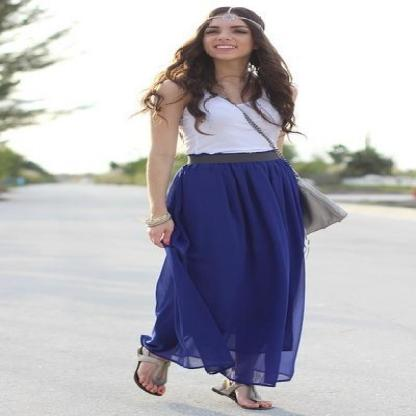bag: (296, 176, 350, 235)
shirt: (176, 78, 293, 155)
shoe: (134, 346, 274, 410)
skirt: (140, 150, 311, 390)
